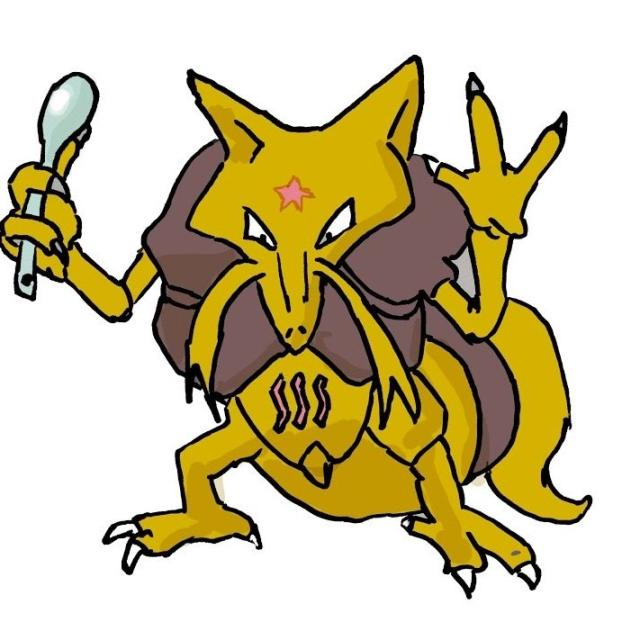Kadabra: (161, 64, 462, 428)
